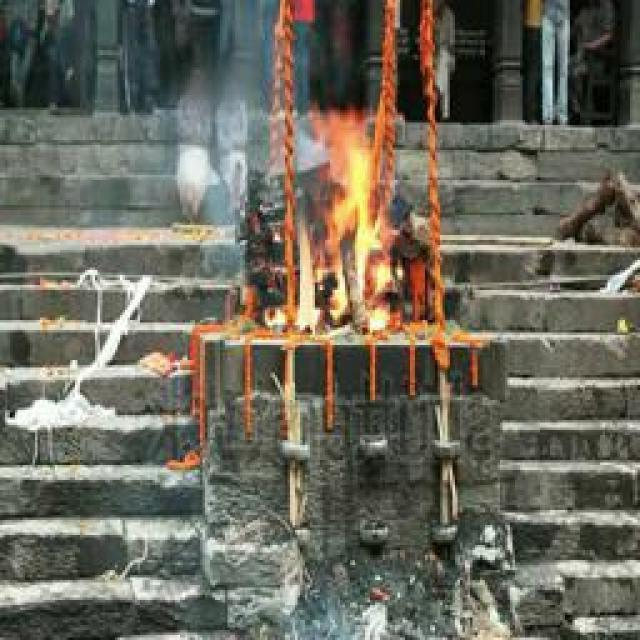Fire: (288, 107, 393, 336)
